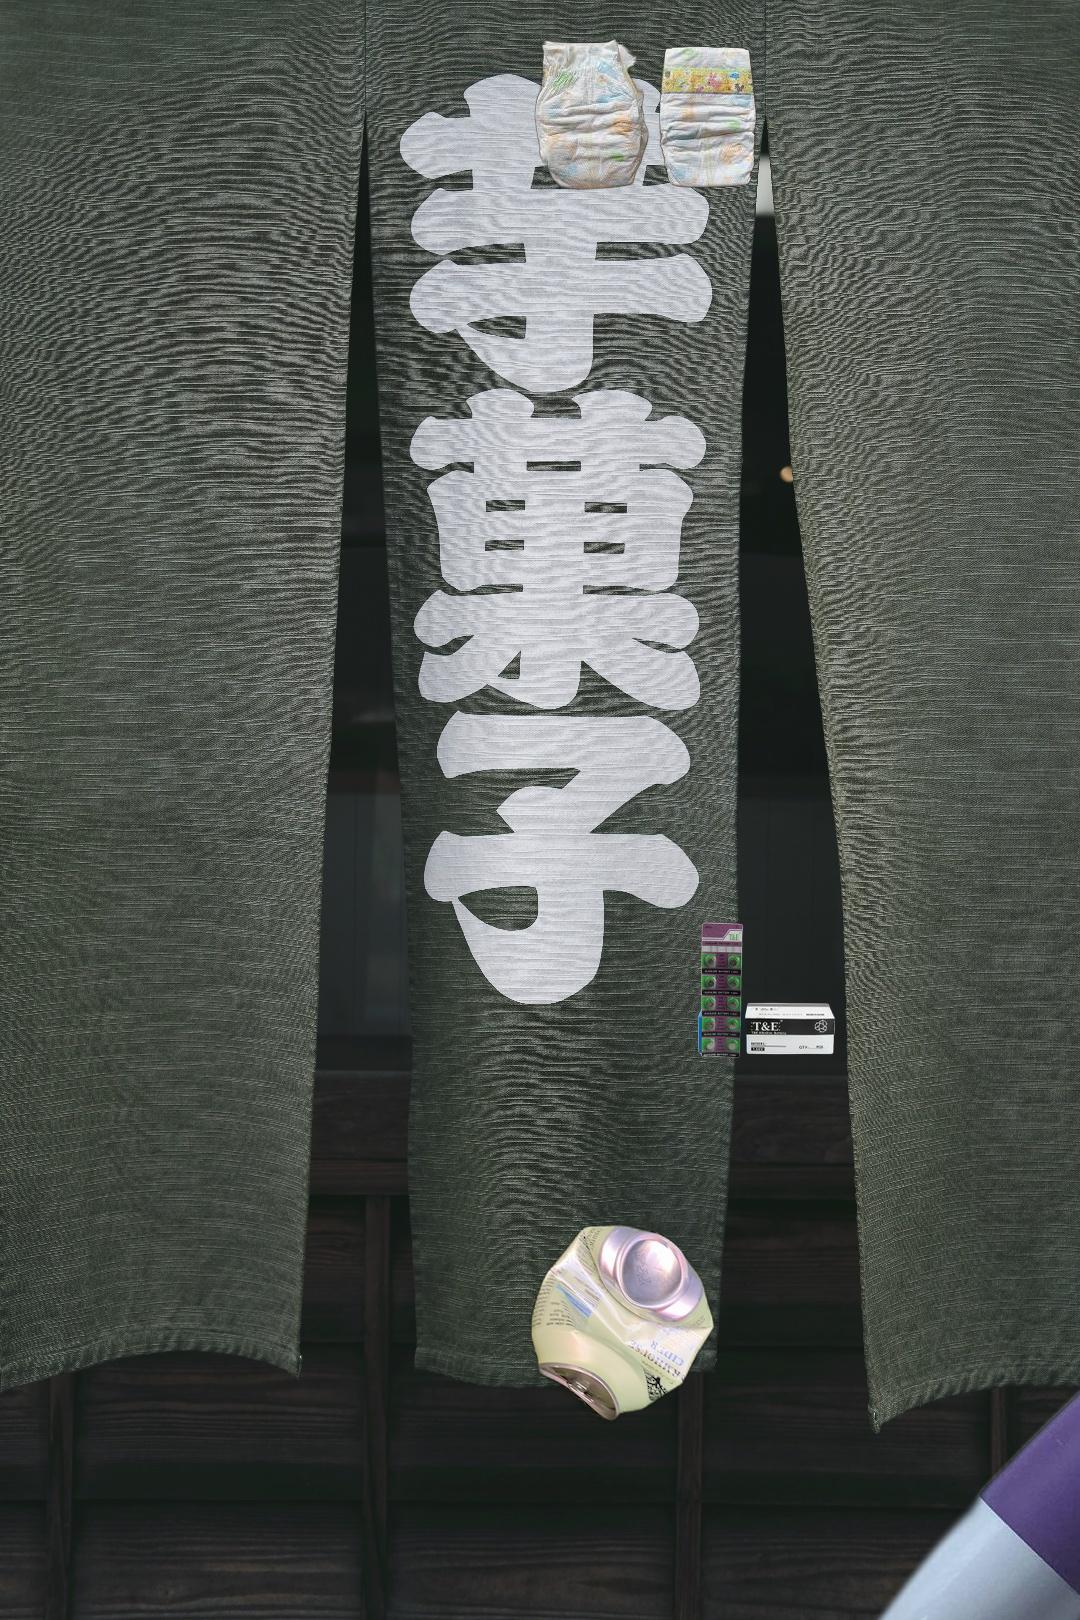battery: (695, 918, 838, 1061)
metal-cans: (526, 1219, 720, 1427)
penholder: (782, 412, 1080, 1620)
trash: (532, 36, 759, 192)
